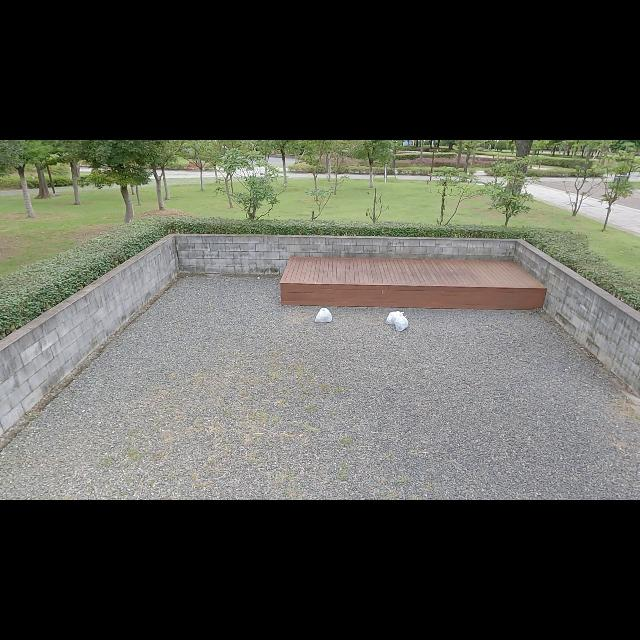trash: (306, 306, 336, 328), (386, 309, 406, 327), (394, 315, 410, 335)
